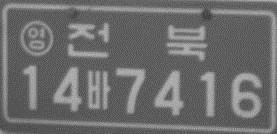1: (195, 70, 225, 118), (17, 64, 46, 111)
4: (153, 69, 184, 116), (53, 65, 82, 111)
6: (230, 71, 262, 119)
7: (115, 66, 146, 115)
바: (85, 69, 111, 110)
영: (19, 19, 53, 57)
전북_D: (66, 22, 207, 62)
